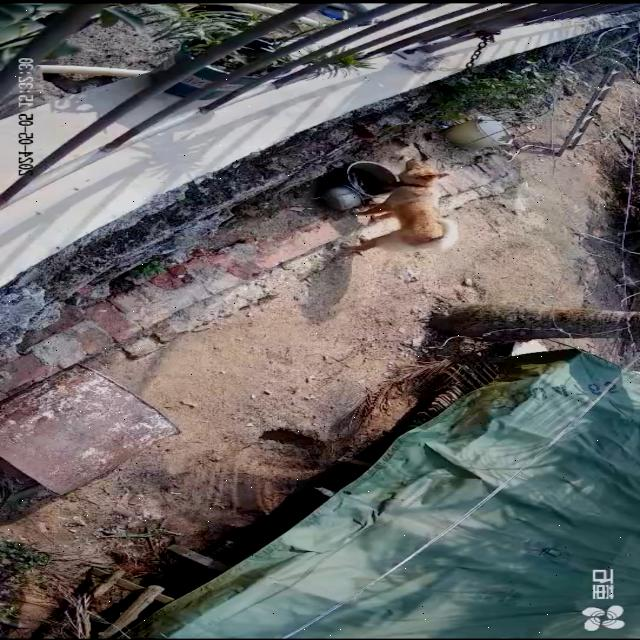dog: (342, 160, 461, 258)
